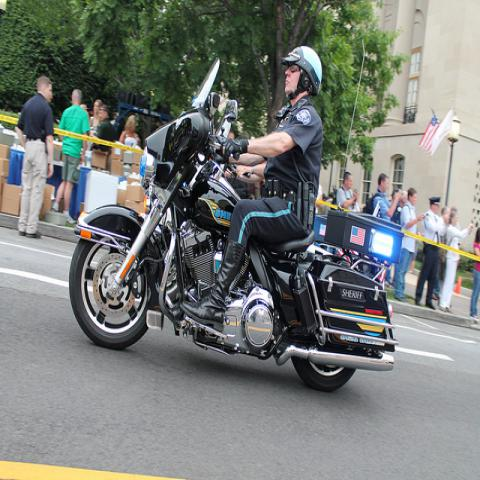motorcycle: (65, 57, 394, 389)
